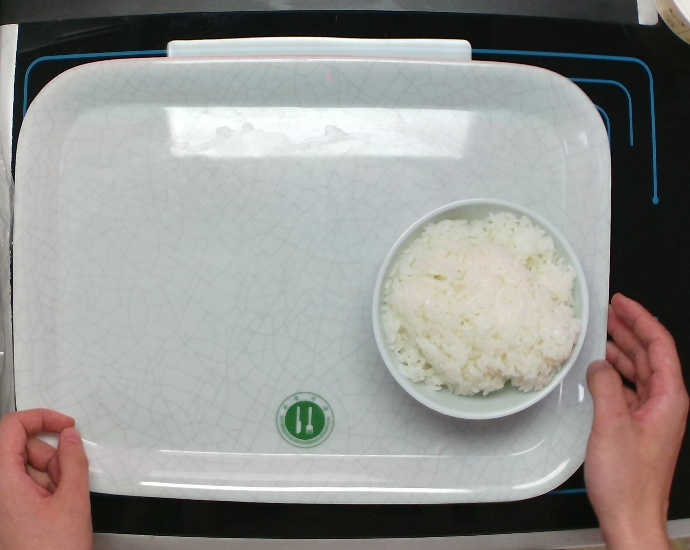JYsf-Fan_Wan: (370, 194, 591, 422)
